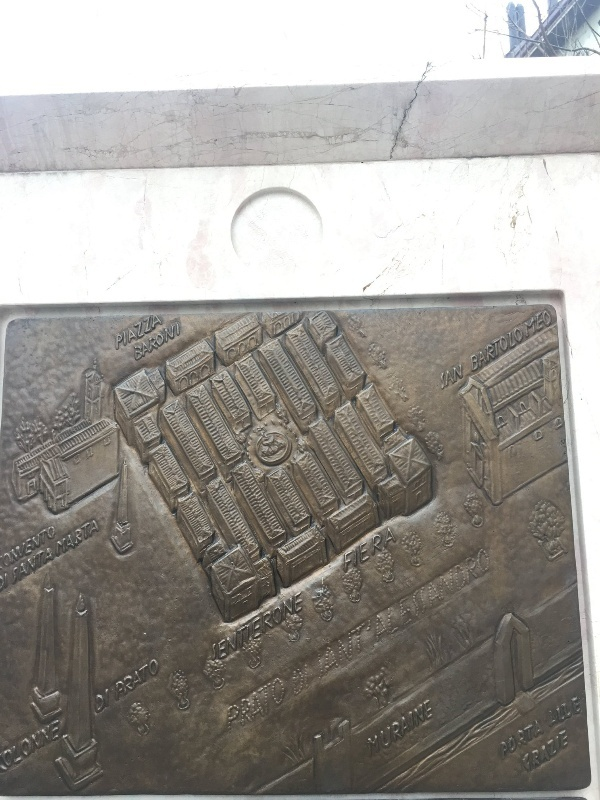text: (401, 545, 416, 631), (417, 545, 432, 631), (433, 545, 448, 631), (449, 545, 464, 631), (465, 545, 480, 631), (225, 589, 240, 666), (241, 589, 256, 666), (257, 589, 272, 666), (273, 589, 288, 666), (289, 589, 304, 666), (211, 589, 224, 666), (321, 618, 336, 683), (337, 618, 352, 683), (353, 618, 368, 683), (369, 697, 384, 762), (385, 697, 400, 762), (401, 697, 416, 762), (417, 697, 432, 762), (481, 545, 492, 631), (241, 675, 256, 738), (257, 675, 272, 738), (1, 718, 16, 777), (17, 718, 32, 777), (33, 718, 48, 777), (273, 675, 287, 738), (227, 675, 240, 738), (481, 324, 496, 377), (497, 324, 512, 377), (529, 728, 544, 779), (545, 728, 560, 779), (129, 657, 144, 706), (145, 657, 160, 706), (1, 524, 16, 572), (17, 524, 32, 572), (33, 524, 48, 572), (49, 718, 61, 777), (145, 320, 160, 366), (161, 320, 176, 366), (513, 324, 526, 377), (114, 657, 128, 706), (513, 719, 528, 764), (529, 719, 544, 764), (385, 603, 401, 645), (129, 312, 144, 356), (145, 312, 160, 356), (17, 545, 32, 589), (33, 545, 48, 589), (65, 518, 80, 559), (81, 518, 96, 559), (499, 719, 512, 764), (115, 312, 128, 356), (470, 324, 480, 377), (529, 306, 544, 341), (353, 541, 368, 576), (561, 728, 571, 779), (133, 320, 144, 366), (449, 362, 464, 392), (385, 526, 398, 558), (293, 662, 304, 699), (97, 687, 110, 718), (49, 524, 57, 572), (372, 526, 384, 558), (375, 603, 384, 645), (561, 701, 574, 730), (55, 518, 64, 559), (548, 701, 560, 730), (1, 571, 16, 593), (545, 306, 554, 341), (49, 545, 56, 589), (522, 728, 528, 779), (10, 545, 16, 589), (345, 541, 352, 576), (161, 312, 166, 356), (441, 362, 448, 392), (97, 518, 102, 559), (317, 618, 320, 683), (369, 618, 372, 683), (305, 662, 310, 699), (524, 306, 528, 341), (177, 320, 180, 366), (577, 695, 583, 717), (366, 697, 368, 762), (571, 695, 576, 717), (545, 719, 547, 764), (399, 545, 400, 631), (433, 697, 434, 762), (94, 687, 96, 718), (161, 657, 162, 706), (369, 541, 370, 576)
